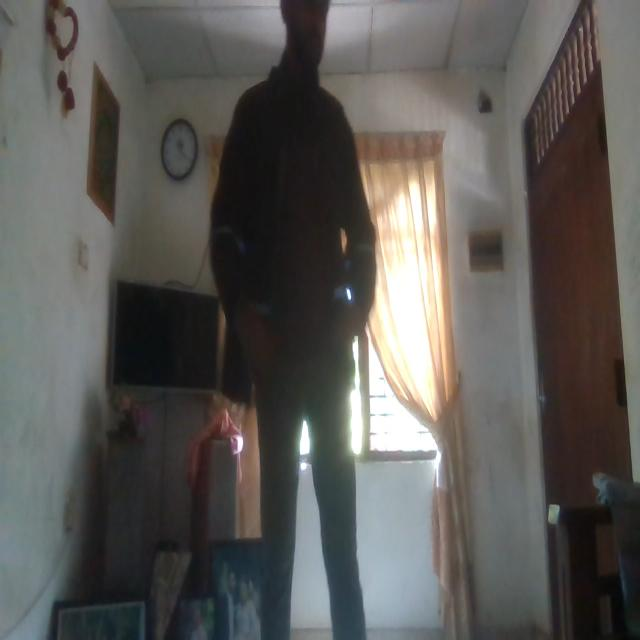Jacket_Wearer: (213, 71, 380, 409)
Person: (213, 0, 383, 640)
